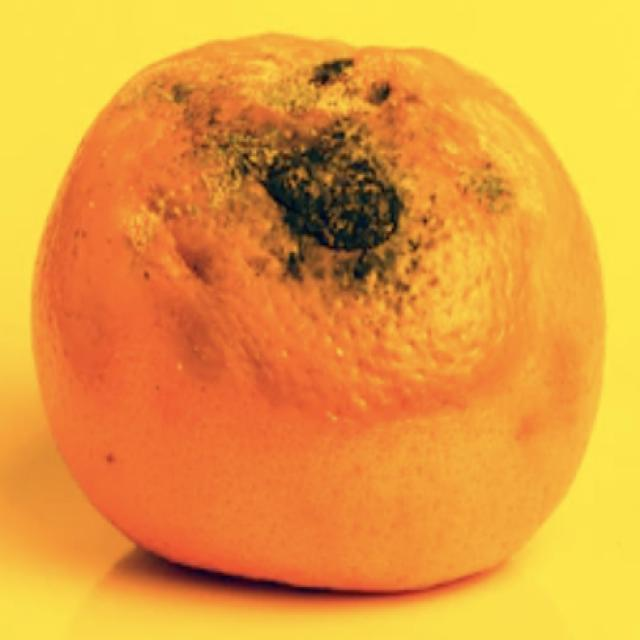sedikit-busuk: (200, 115, 407, 291)
